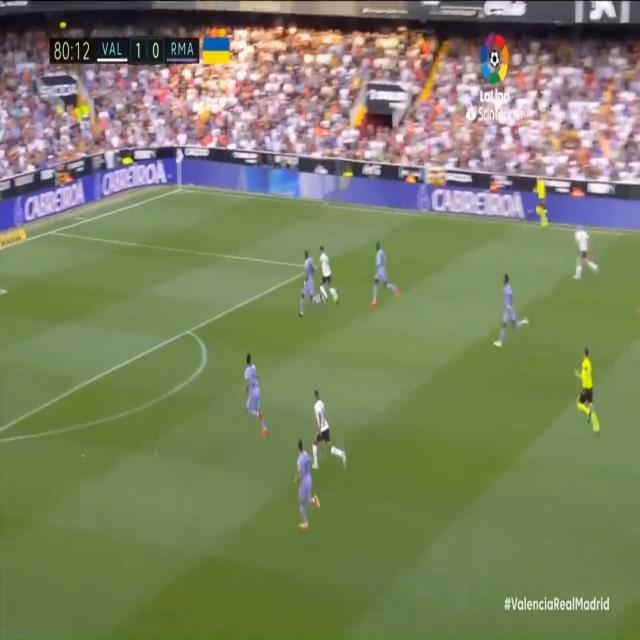ball: (314, 286, 322, 306)
player: (311, 389, 349, 474), (242, 349, 272, 442), (292, 436, 320, 534), (495, 271, 522, 350), (371, 239, 397, 310), (573, 221, 597, 284), (299, 242, 316, 322), (320, 242, 337, 304)
referee: (573, 343, 602, 436), (532, 171, 549, 227)
